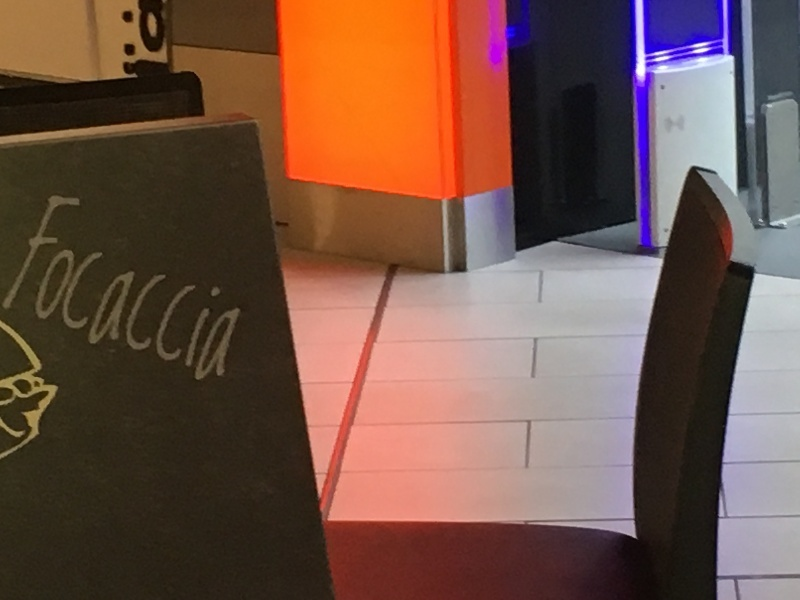text: (65, 185, 80, 398), (81, 185, 96, 398), (97, 185, 112, 398), (113, 185, 128, 398), (129, 185, 144, 398), (145, 185, 160, 398), (161, 185, 176, 398), (177, 185, 192, 398), (193, 185, 208, 398), (209, 185, 224, 398), (225, 185, 240, 398), (241, 185, 256, 398), (50, 185, 64, 398), (257, 185, 259, 398)
